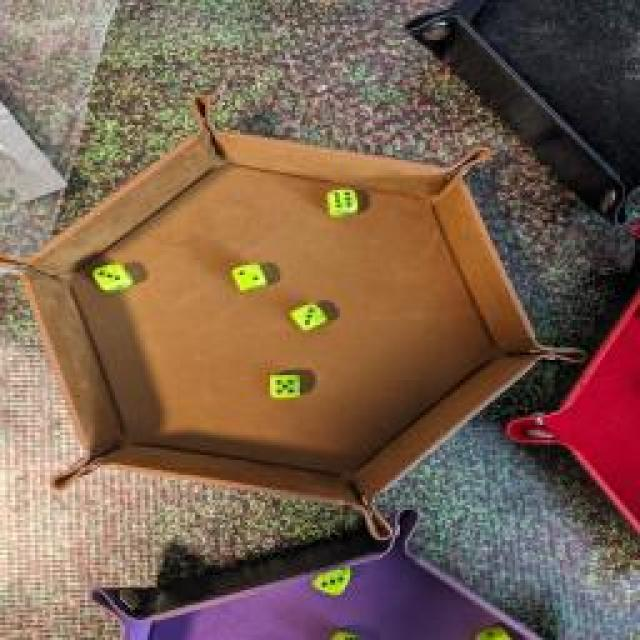dice_2: (230, 259, 268, 291)
dice_3: (282, 300, 330, 335), (86, 260, 134, 292), (307, 563, 355, 595)
dice_5: (263, 372, 305, 402)
dice_6: (320, 188, 360, 218)
